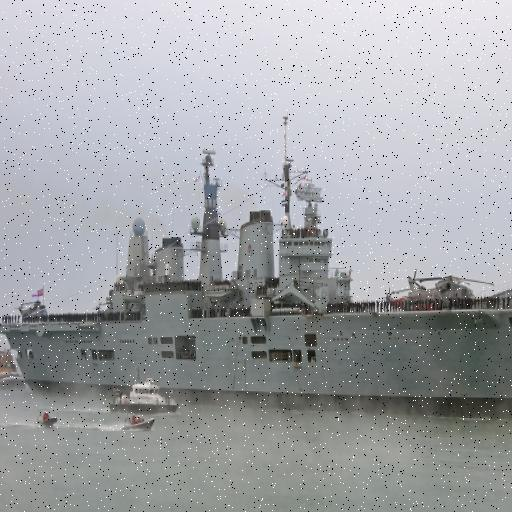Portanaves: (1, 114, 512, 430)
